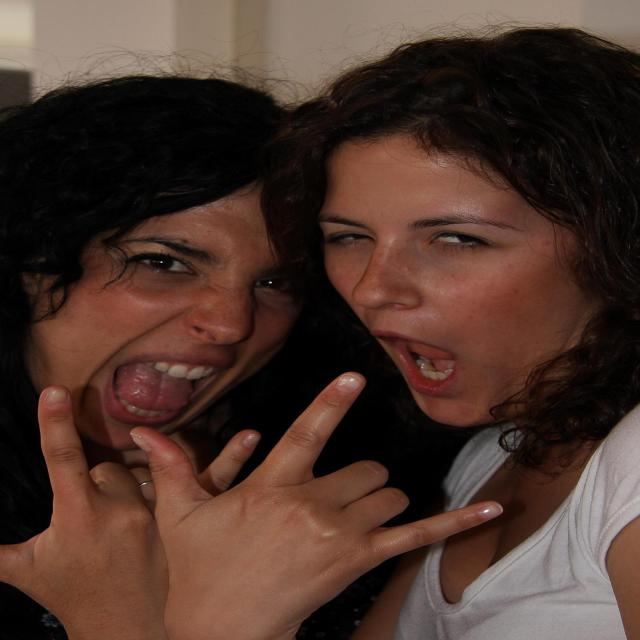no-glass: (128, 248, 295, 293), (332, 220, 500, 257)
